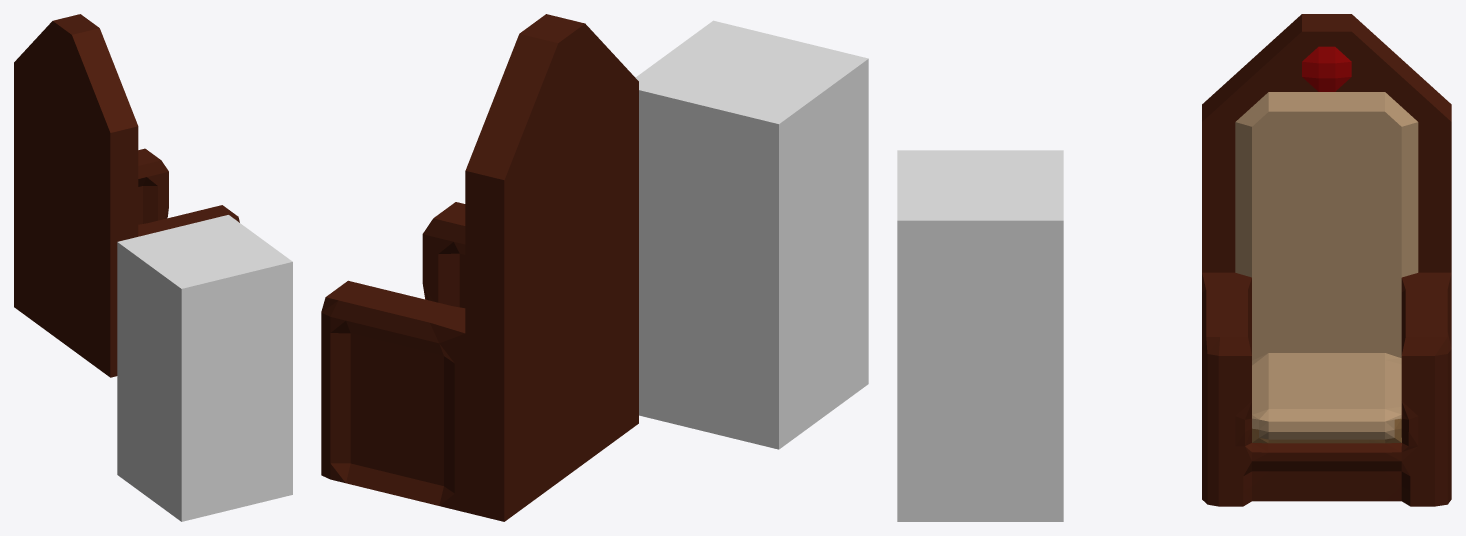
Rendered from Wooden Throne FBX.fbx.
3 views of the same model, side by side, from view 1: azimuth 30°, elevation 25°; view 2: azimuth 150°, elevation 25°; view 3: azimuth 270°, elevation 25° (orthographic). The views are drawn at different scales.
Parts seen in each view (by area): view 1: Box001, Box003; view 2: Box003, Box001; view 3: Box003, Box001.
Part boxes in pixels (x1,y1,x2,y2): Box001: (117,215,292,521); Box003: (14,14,239,377); Box003: (321,14,638,521); Box001: (635,20,868,449); Box003: (1202,14,1451,506); Box001: (897,150,1063,521).
Bounding box in the file's own units: 165 × 310 × 333.
